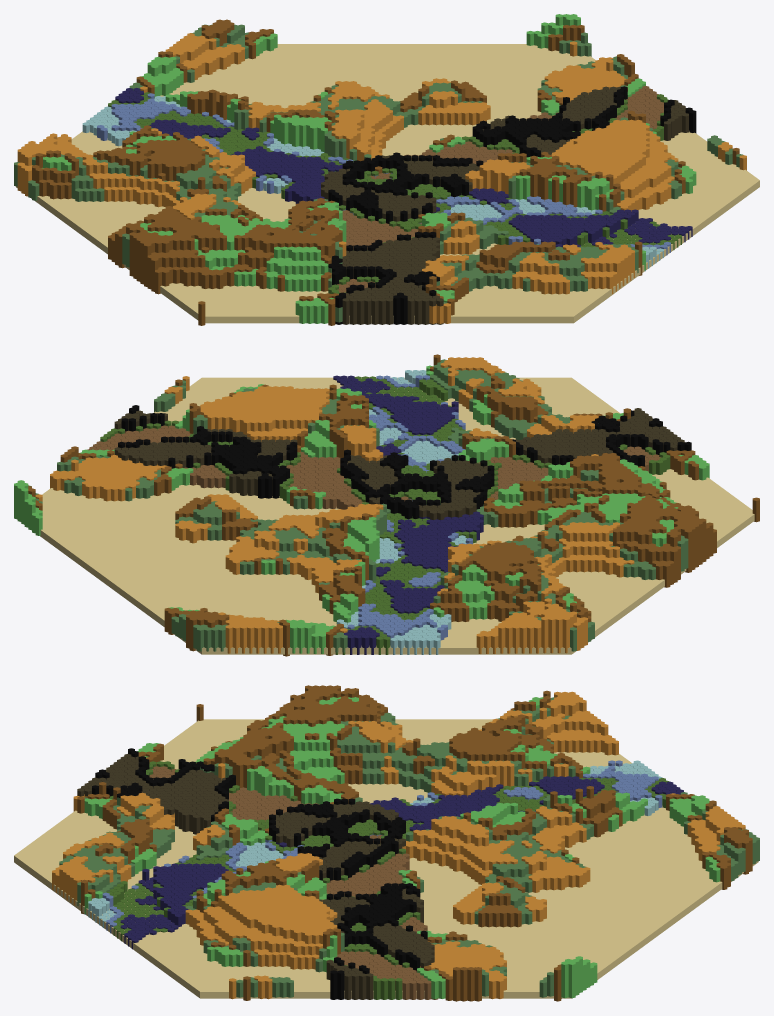
File: 0042_tile_1120210.fbx
3 renders of one model, top to bottom at view 1: azimuth 30°, elevation 25°; view 2: azimuth 150°, elevation 25°; view 3: azimuth 270°, elevation 25°, orthographic.
Visible parts, largest first — view 1: Plane; view 2: Plane; view 3: Plane.
Boxes of the visible parts, box(x1,y1,x2,y2) form: Plane: box(14, 14, 759, 325); Plane: box(14, 354, 759, 656); Plane: box(14, 685, 759, 1001).
Bounding box in the file's own units: 1008 × 69.52 × 1152.
